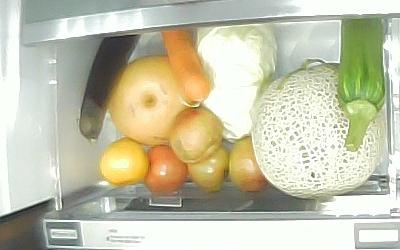cabbage: (196, 22, 279, 141)
carrot: (161, 29, 209, 107)
eggplant: (80, 33, 141, 142)
melon: (249, 57, 385, 200)
pear: (108, 56, 195, 147)
prune: (170, 105, 223, 163), (184, 141, 231, 192), (227, 137, 268, 193)
tangerine: (100, 137, 149, 189)
tomato: (144, 144, 189, 194)
zucchini: (339, 19, 387, 152)
